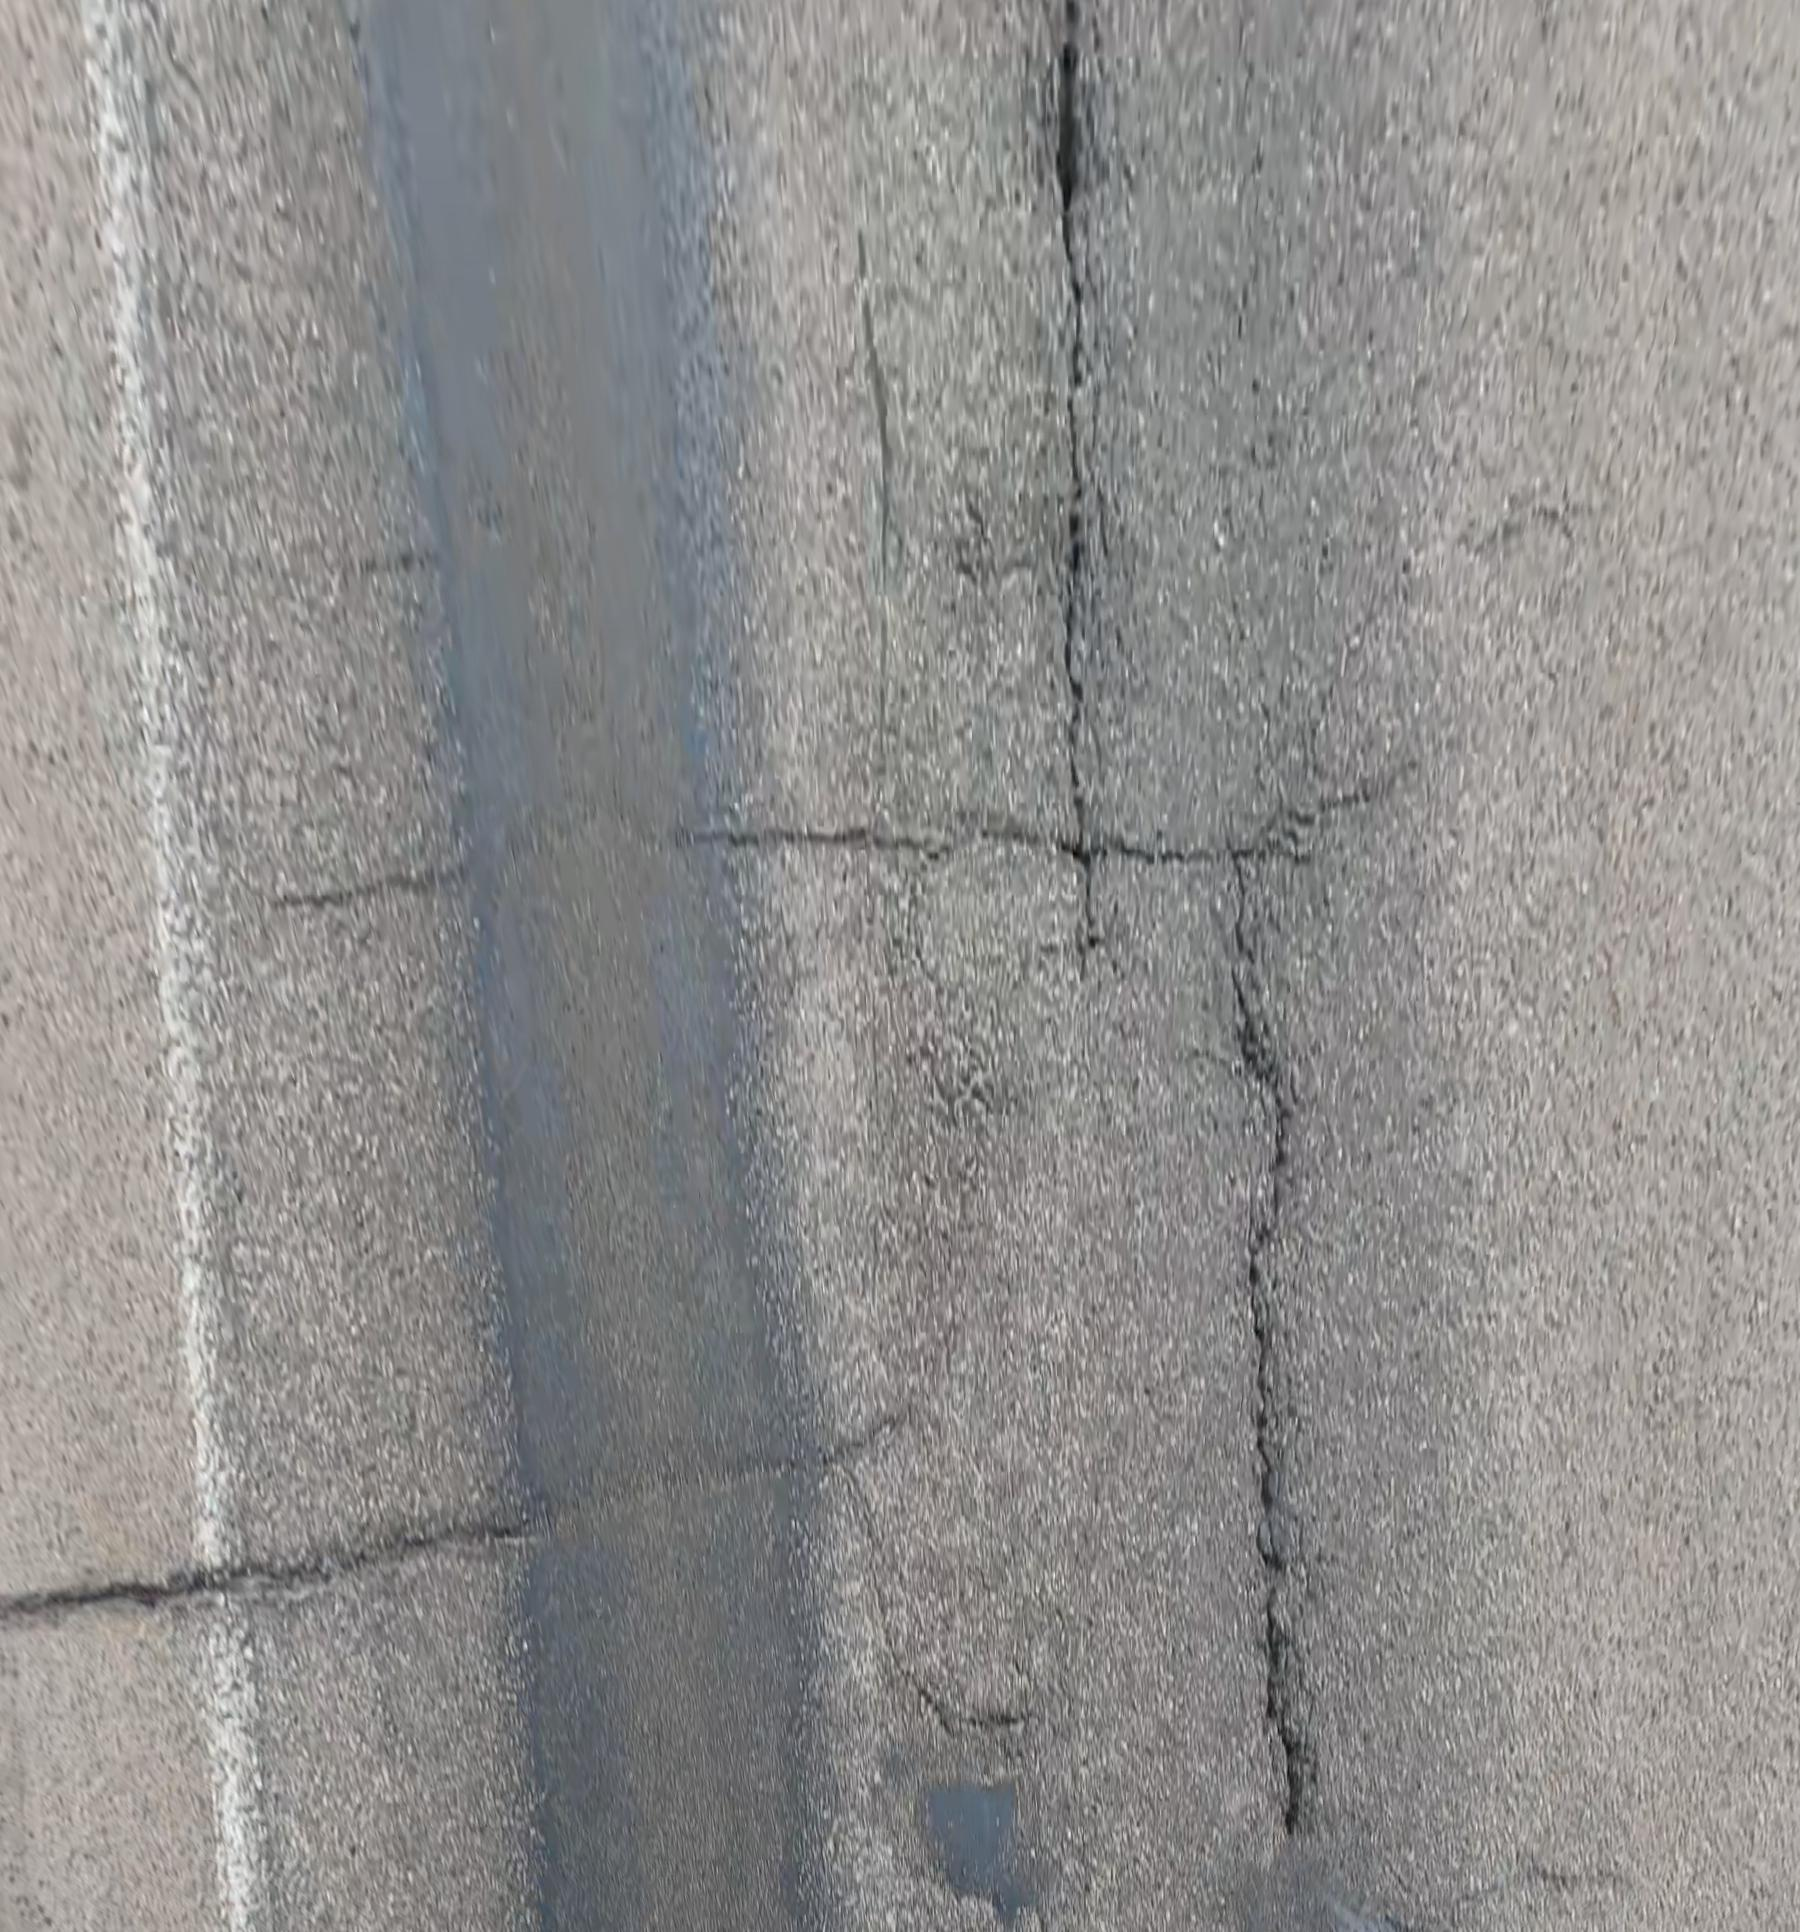pothole_patch_good: (922, 1788, 1029, 1927)
